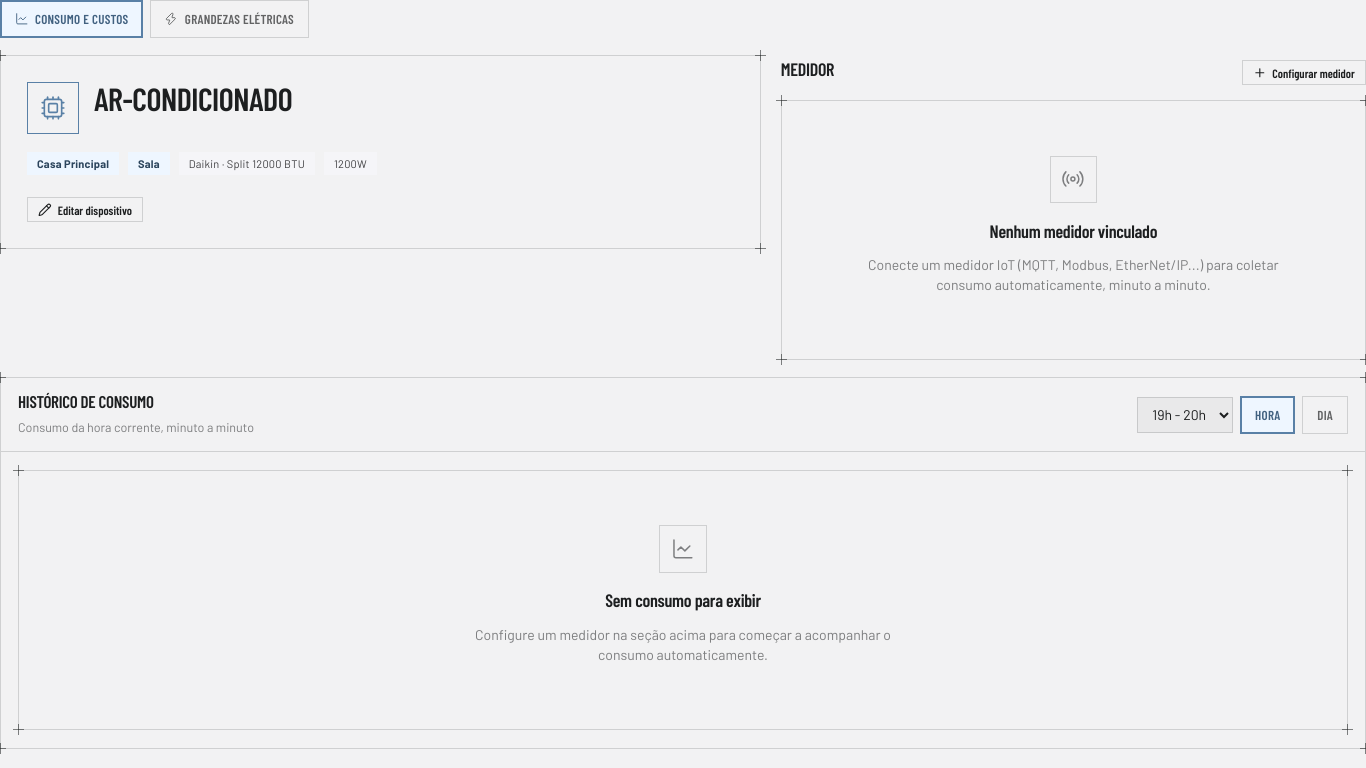
Test: DeviceDetailsPage — editar › abre o modal de edição ao clicar em 'Editar dispositivo'
Click the button "Editar dispositivo" at (85, 210), box [27,197,143,222]
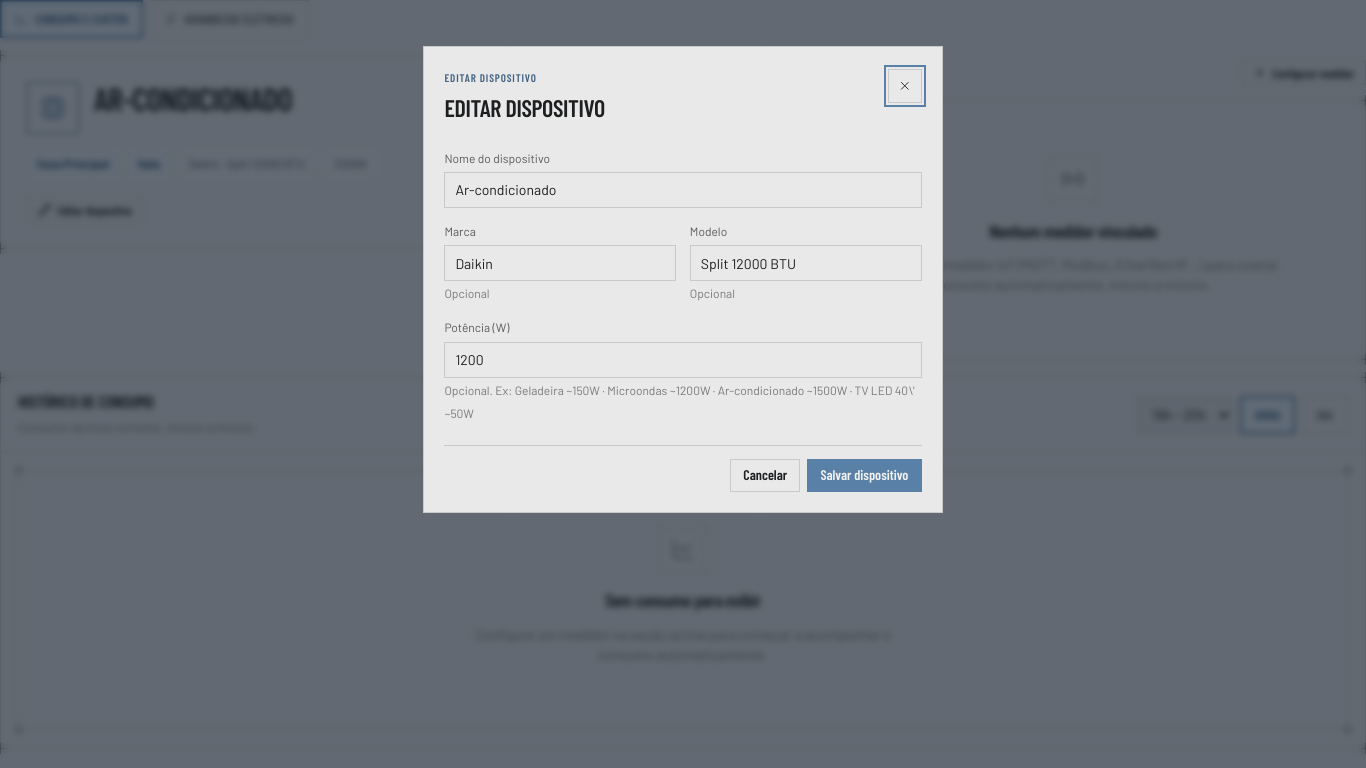
Expected: the dialog "Editar dispositivo" is shown, [423,46,943,513]
